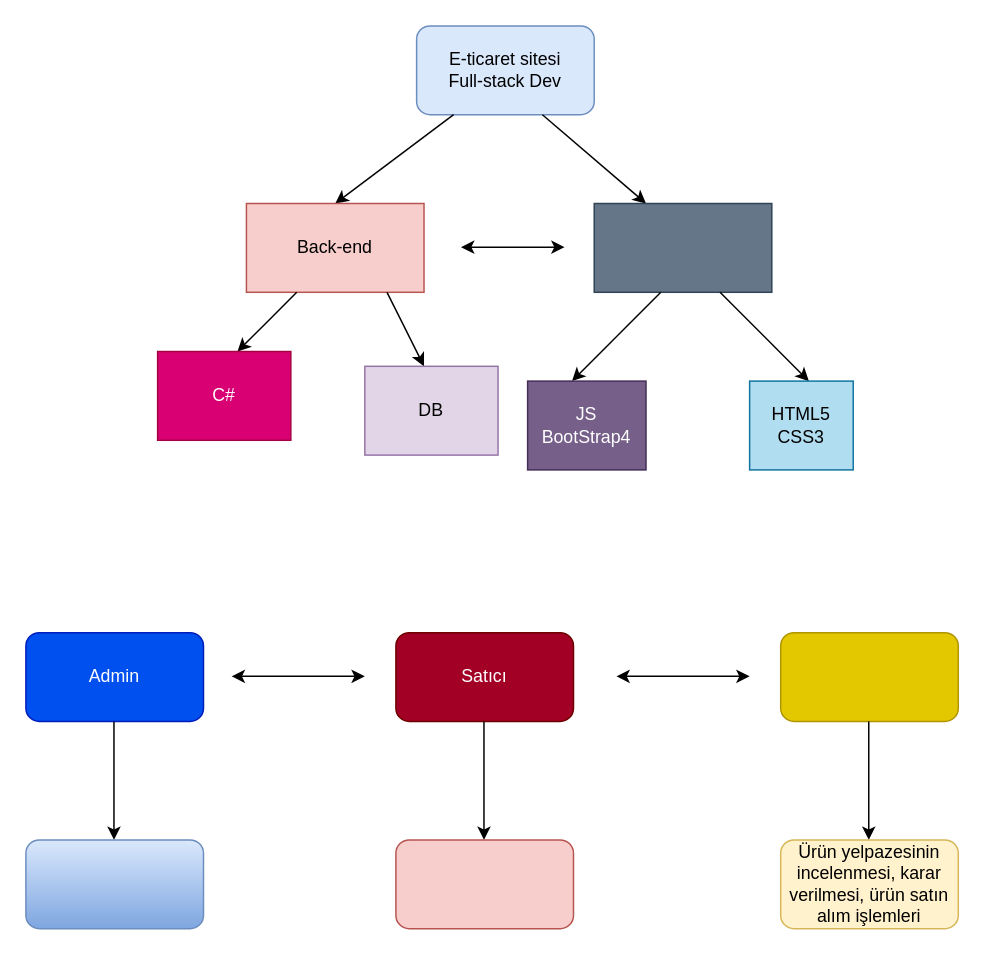
Some shapes in this 984 by 955 pixel diagram are drawn without their labels. The box of each missing label's shape, as (x1, y1, x2, y2) in pixels:
DB ve Site Kontrolü: (24, 838, 204, 929)
Front-end: (593, 202, 772, 292)
Kullanıcı: (779, 631, 958, 722)
Ürün yükleme, fiyatlandırma, taksit seçenekleri, resimler, açıklamalar: (394, 838, 574, 929)
